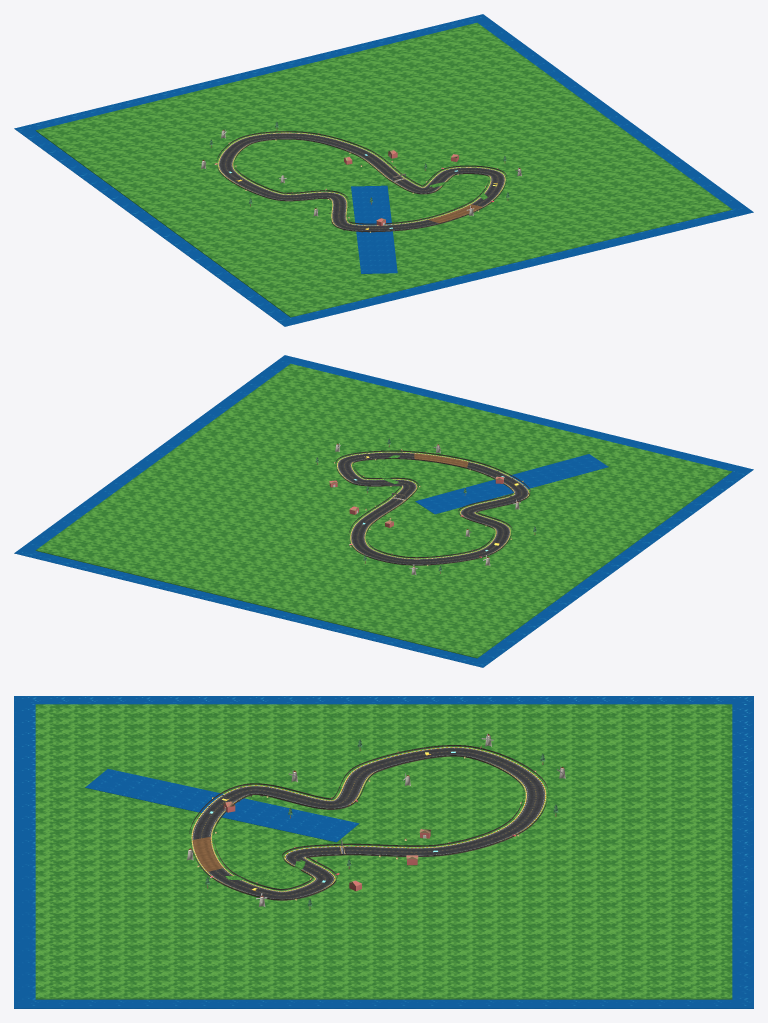
The model's file is vale_dos_moinhos.glb.
3 renders of one model, top to bottom at view 1: azimuth 30°, elevation 25°; view 2: azimuth 150°, elevation 25°; view 3: azimuth 270°, elevation 25°, orthographic. The views are drawn at different scales.
Visible parts, largest first — view 1: BiomeGroundBasin, BayWaterPlane, MainRoadMesh, RiverChannelPlane, RightStoneWall, LeftStoneWall, RightCurbMesh; view 2: BiomeGroundBasin, BayWaterPlane, MainRoadMesh, RiverChannelPlane, RightStoneWall, LeftStoneWall; view 3: BiomeGroundBasin, BayWaterPlane, MainRoadMesh, RiverChannelPlane, RightStoneWall, LeftStoneWall, RightCurbMesh, LeftCurbMesh, SurfacePatch_vale-dirt-farm-road.
Boxes of the visible parts, bbox=[...] form: BiomeGroundBasin: bbox=[35, 22, 732, 317]; BayWaterPlane: bbox=[14, 14, 753, 326]; MainRoadMesh: bbox=[219, 133, 504, 230]; RiverChannelPlane: bbox=[351, 185, 397, 273]; RightStoneWall: bbox=[216, 131, 507, 232]; LeftStoneWall: bbox=[234, 138, 489, 224]; RightCurbMesh: bbox=[218, 132, 505, 226]; BiomeGroundBasin: bbox=[35, 363, 732, 658]; BayWaterPlane: bbox=[14, 355, 753, 667]; MainRoadMesh: bbox=[338, 452, 528, 564]; RiverChannelPlane: bbox=[415, 454, 608, 514]; RightStoneWall: bbox=[335, 450, 530, 565]; LeftStoneWall: bbox=[353, 458, 513, 558]; BiomeGroundBasin: bbox=[35, 704, 732, 999]; BayWaterPlane: bbox=[14, 696, 753, 1008]; MainRoadMesh: bbox=[192, 747, 544, 899]; RiverChannelPlane: bbox=[85, 769, 359, 842]; RightStoneWall: bbox=[189, 745, 548, 900]; LeftStoneWall: bbox=[213, 755, 524, 890]; RightCurbMesh: bbox=[191, 747, 546, 892]; LeftCurbMesh: bbox=[210, 762, 526, 891]; SurfacePatch_vale-dirt-farm-road: bbox=[193, 837, 222, 871].
Size of the model in its own units: 680 by 37.03 by 680.
18 materials, 10 textured.
